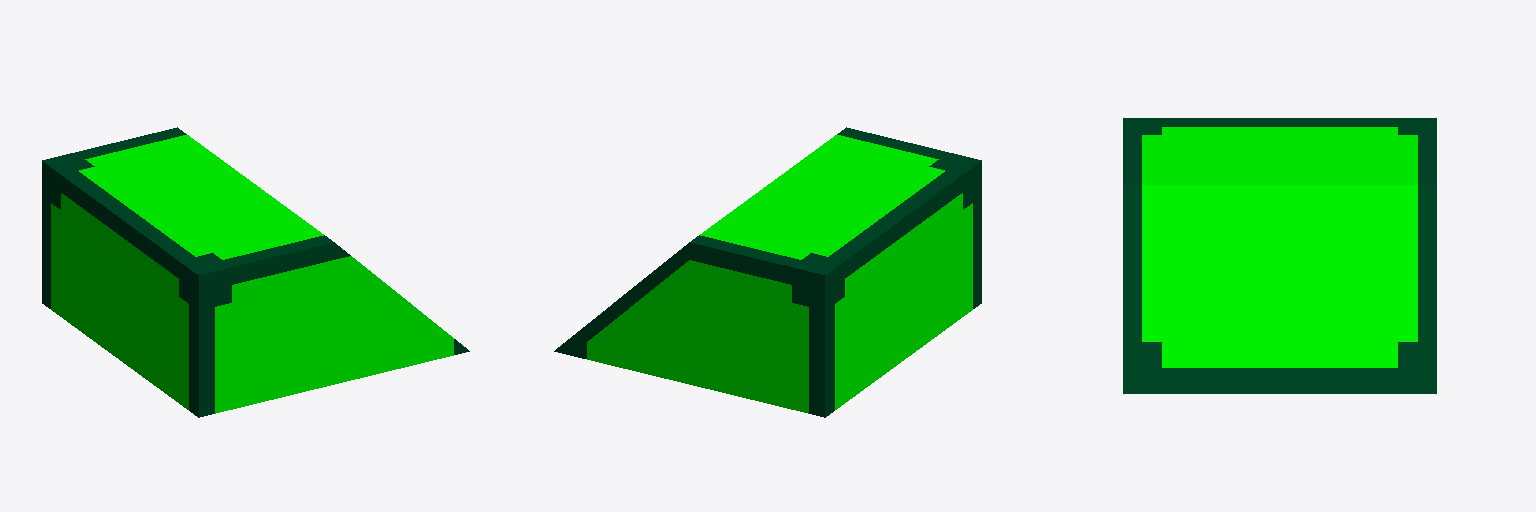
The picture shows the model from 3 angles: view 1: azimuth 30°, elevation 25°; view 2: azimuth 150°, elevation 25°; view 3: azimuth 270°, elevation 25°; orthographic projection.
Visible parts, largest first — view 1: 2_green; view 2: 2_green; view 3: 2_green.
Part boxes in pixels (x1,y1,x2,y2): 2_green: (42, 127, 469, 417); 2_green: (554, 127, 981, 417); 2_green: (1123, 118, 1436, 393).
Size of the model in its own units: 1 by 0.5 by 1.
1 materials, 1 textured.